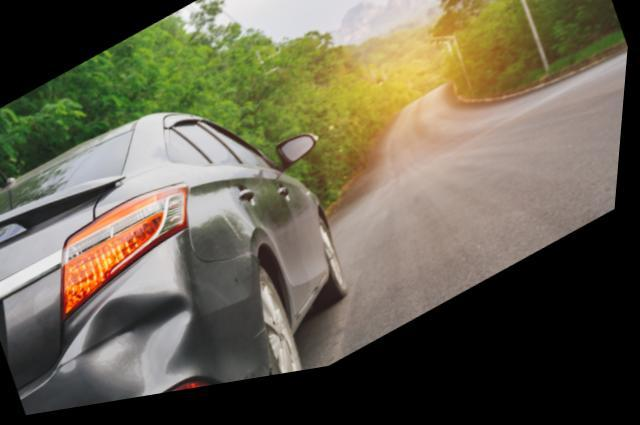dent: (89, 297, 198, 397)
